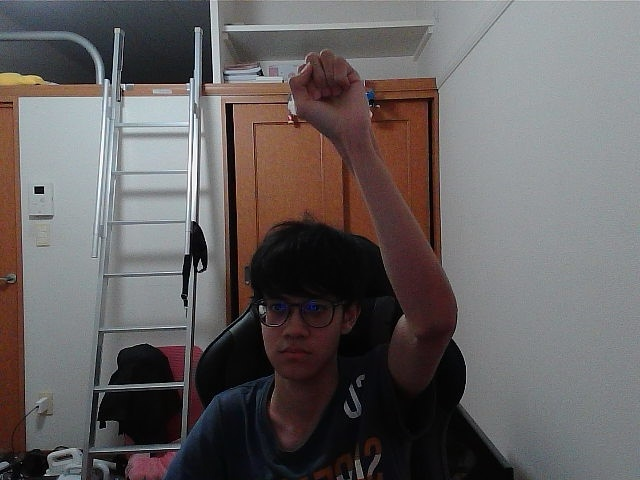closed_palm: (295, 57, 350, 123)
